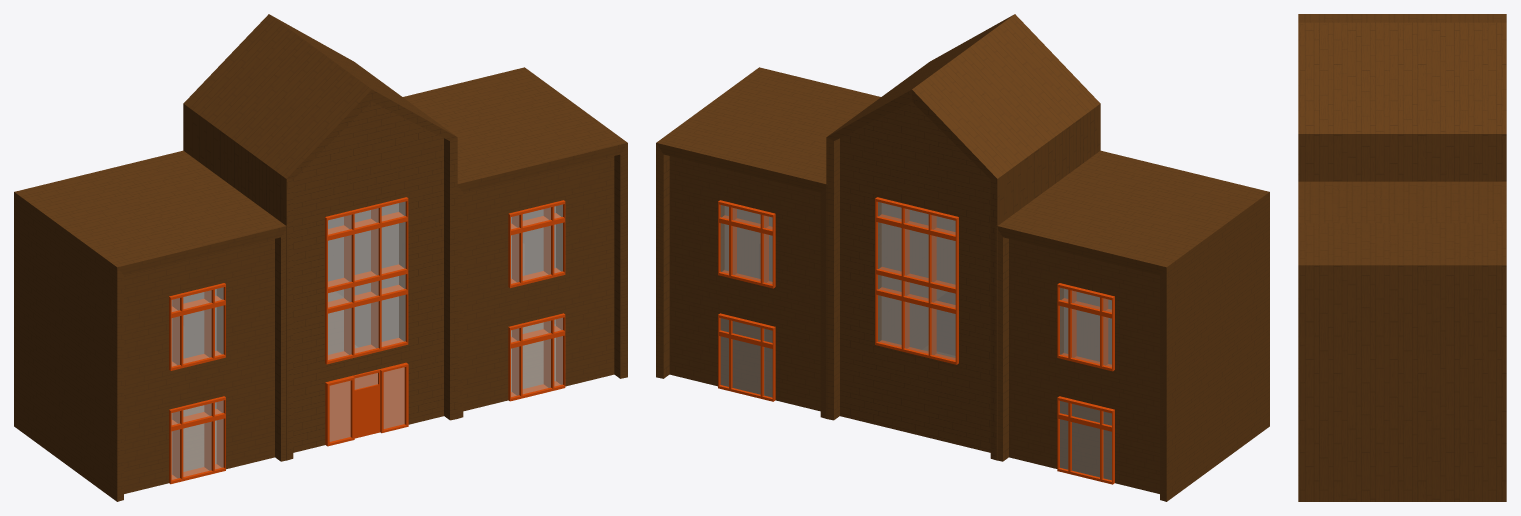
Rendered from houseType01.fbx.
3 renders of one model, left to right at view 1: azimuth 30°, elevation 25°; view 2: azimuth 150°, elevation 25°; view 3: azimuth 270°, elevation 25°, orthographic.
Visible parts, largest first — view 1: houseType01; view 2: houseType01; view 3: houseType01.
Boxes of the visible parts, left/top/right/bottom form: houseType01: left=14, top=14, right=627, bottom=501; houseType01: left=656, top=14, right=1269, bottom=501; houseType01: left=1298, top=14, right=1506, bottom=501.
Size of the model in its own units: 65.09 by 42.68 by 22.76.
